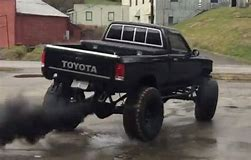smoke: (1, 97, 90, 148)
